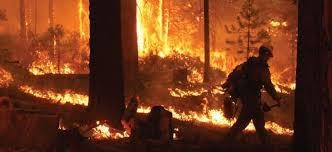fire: (128, 0, 290, 130), (21, 83, 92, 106), (91, 117, 130, 140), (269, 66, 297, 93), (262, 118, 293, 135)
